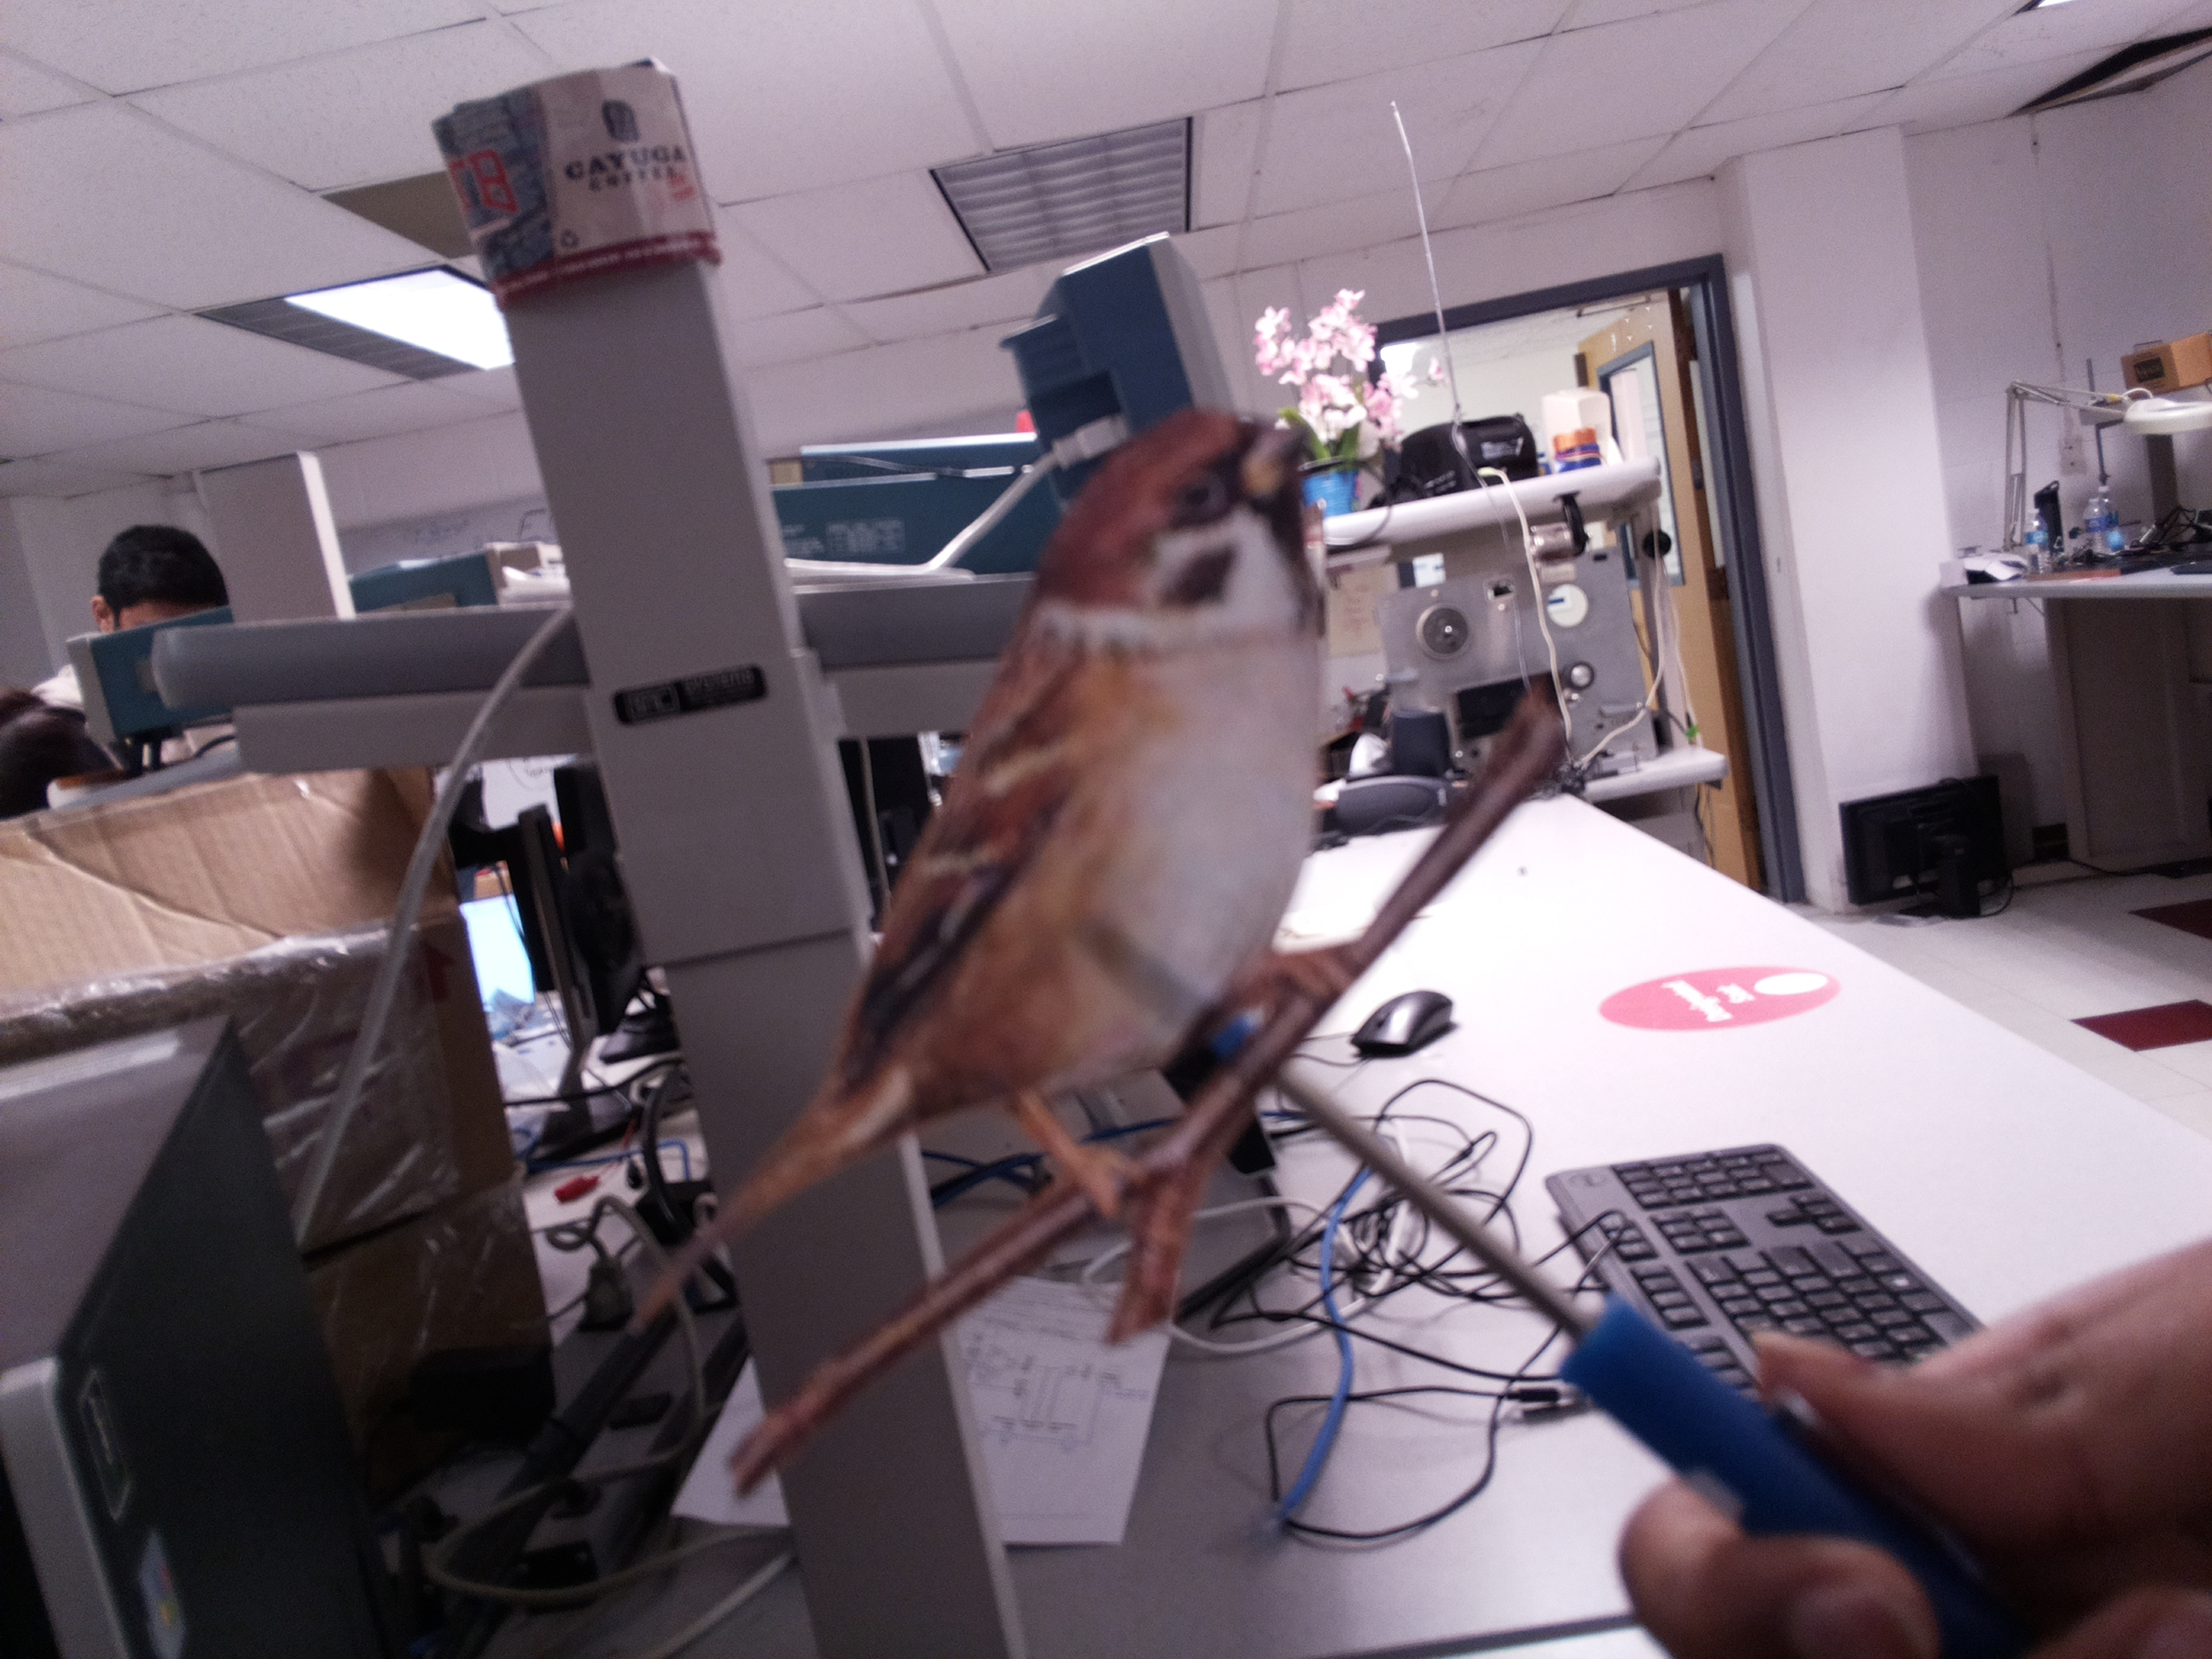bird: (597, 392, 1329, 1373)
